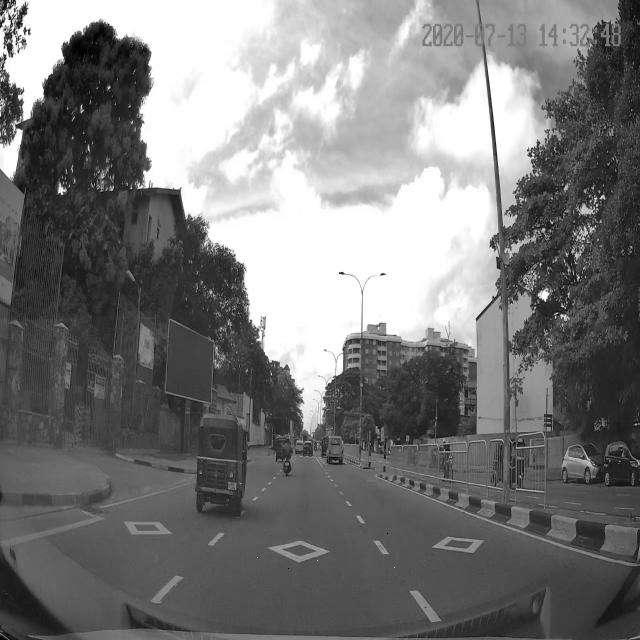diamond: (190, 528, 399, 577)
